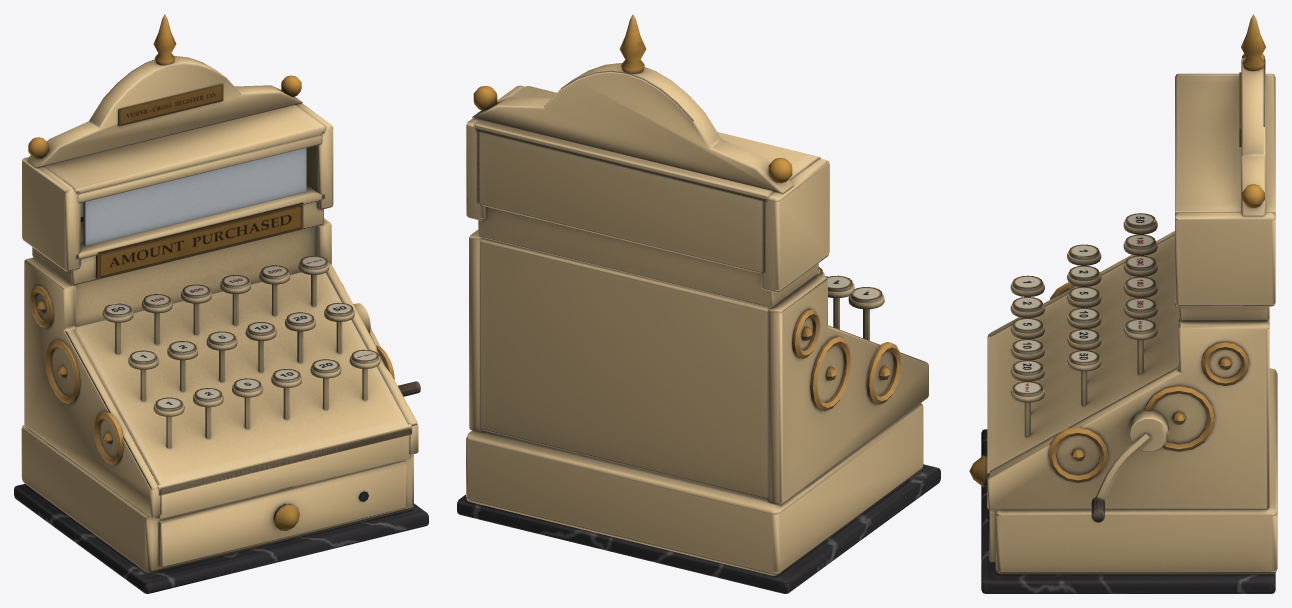
File: CashRegister.fbx
The picture shows the model from 3 angles, left to right: view 1: azimuth 30°, elevation 25°; view 2: azimuth 150°, elevation 25°; view 3: azimuth 270°, elevation 25°; orthographic projection. The views are drawn at different scales.
Parts seen in each view (by area): view 1: CashRegister_Main, CashRegister_Drawer0, CashRegister_Glass; view 2: CashRegister_Main; view 3: CashRegister_Main, CashRegister_Drawer0.
Boxes of the visible parts, box(x1,y1,x2,y2) form: CashRegister_Main: box(14, 14, 428, 593); CashRegister_Drawer0: box(158, 461, 406, 567); CashRegister_Glass: box(83, 148, 306, 246); CashRegister_Main: box(457, 14, 940, 593); CashRegister_Main: box(981, 14, 1277, 593); CashRegister_Drawer0: box(969, 455, 995, 562).
Bounding box in the file's own units: 206 × 276 × 153.
